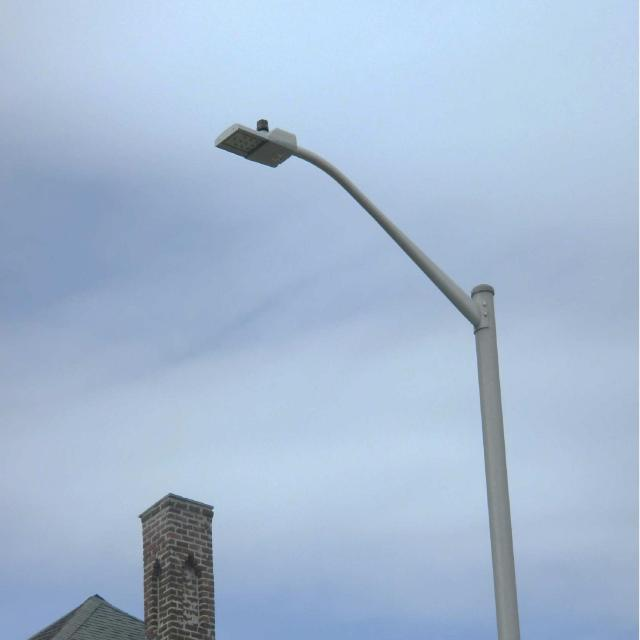off: (162, 101, 536, 324)
